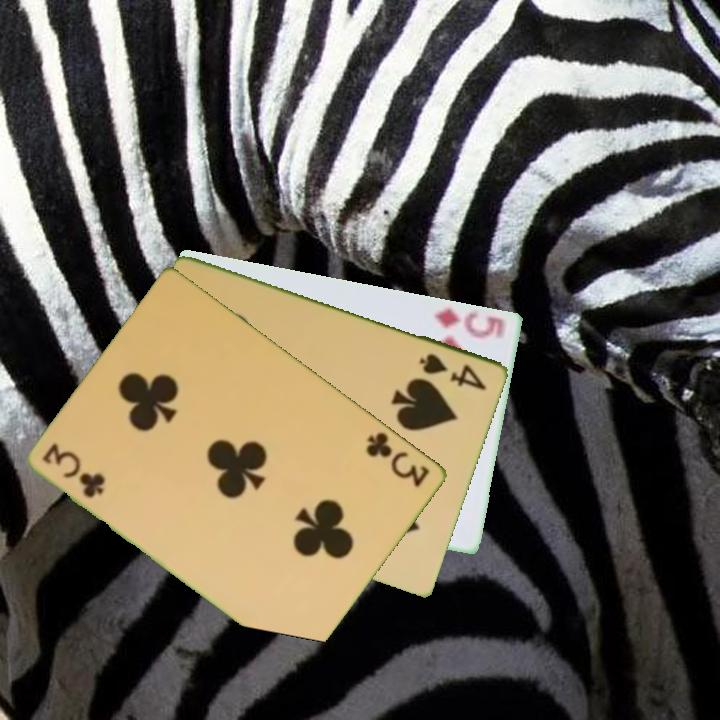3c: (363, 428, 433, 490), (39, 439, 109, 501)
4s: (416, 349, 490, 393)
5d: (431, 304, 510, 341)
